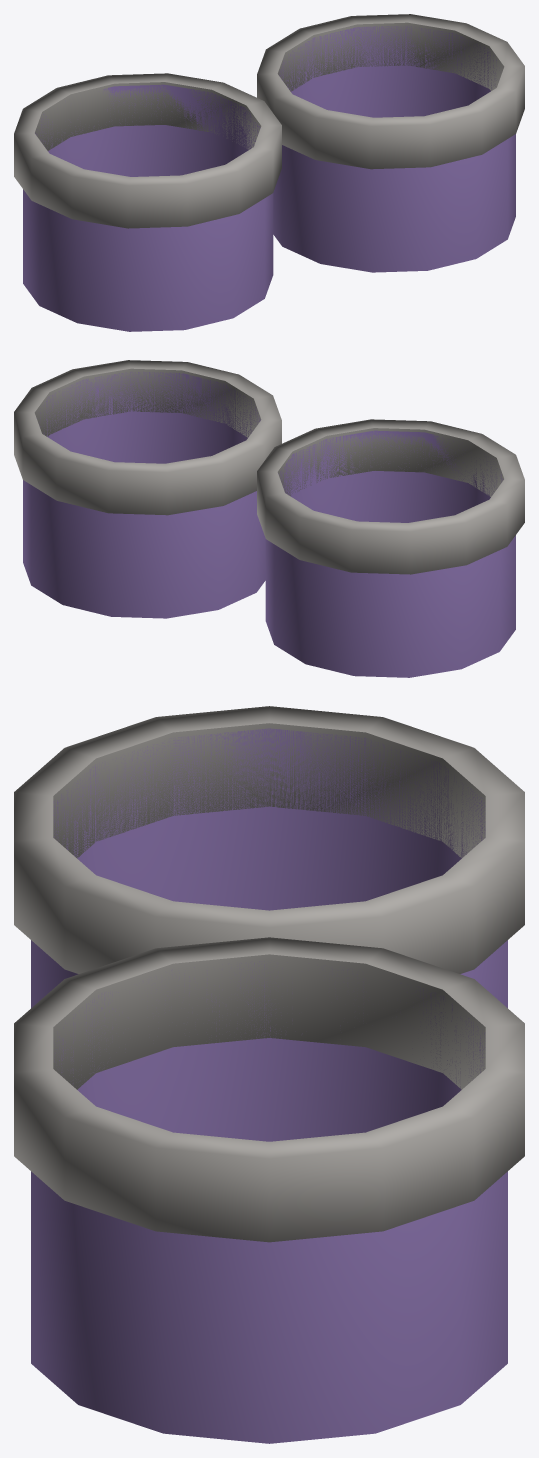
Rendered from layered_socks.glb.
The picture shows the model from 3 angles, top to bottom: view 1: azimuth 30°, elevation 25°; view 2: azimuth 150°, elevation 25°; view 3: azimuth 270°, elevation 25°; orthographic projection. The views are drawn at different scales.
Visible parts, largest first — view 1: layered_socks_LegL, layered_socks_LegR; view 2: layered_socks_LegL, layered_socks_LegR; view 3: layered_socks_LegR, layered_socks_LegL.
Boxes of the visible parts, x1,y1,x2,y2 form: layered_socks_LegL: (14,73,281,331); layered_socks_LegR: (257,14,524,272); layered_socks_LegL: (257,419,524,677); layered_socks_LegR: (14,360,281,618); layered_socks_LegR: (14,937,524,1443); layered_socks_LegL: (14,706,524,1007).
Bounding box in the file's own units: 0.372 × 0.112 × 0.1774.
